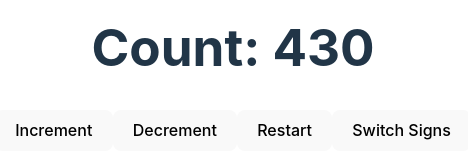
Scenario: Counter Component › should restart to zero when click at restart counter
Click the button "Restart".
click(285, 130)  # box [237,110,332,151]
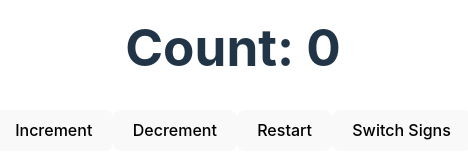
Check: the heading "Count: 0" is shown, box [125,16,341,78]
